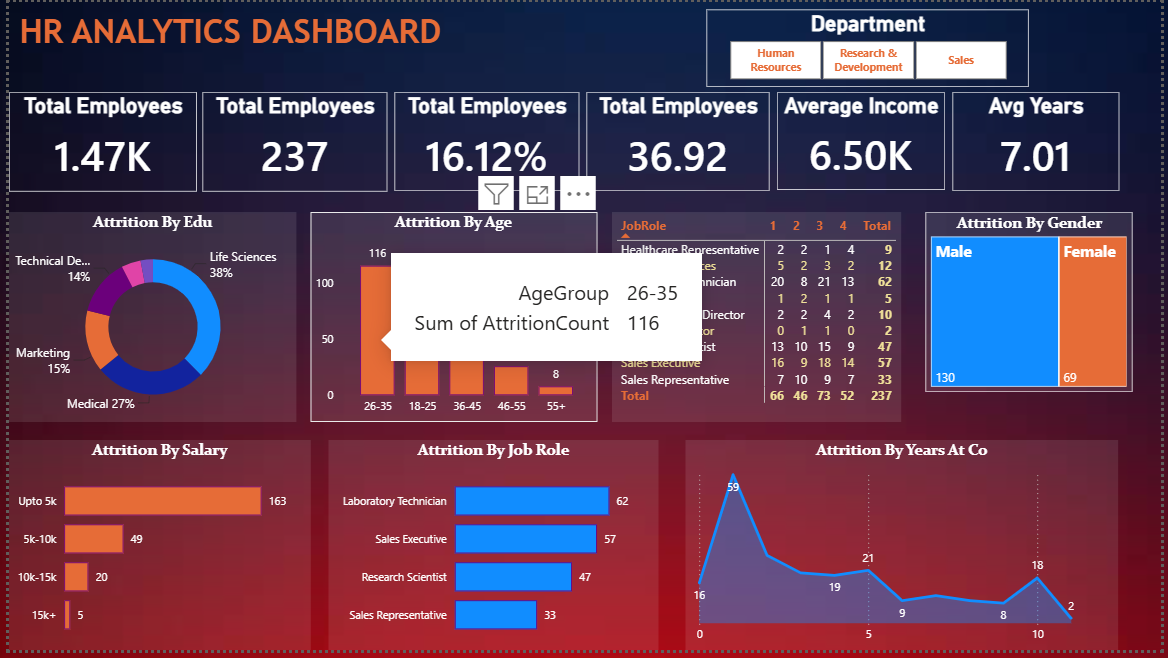

The dashboard page shown, as its layout file describes it:
{"tool":"powerbi","page":{"name":"Page 1","canvas":[1280,720],"ordinal":0},"visuals":[{"type":"cardVisual","title":"Total Employees","fields":{"Data":["CountNonNull(HR analytics.EmpID)"]},"box":[0,100,208.8,110.5],"z":0},{"type":"cardVisual","title":"Total Employees","fields":{"Data":["Sum(HR analytics.AttritionCount)"]},"box":[215.8,100,205.3,110.5],"z":1000},{"type":"cardVisual","title":"Total Employees","fields":{"Data":["HR analytics.Attrition_rate"]},"box":[431.6,100,205.3,110.5],"z":2000},{"type":"cardVisual","title":"Total Employees","fields":{"Data":["Avg(HR analytics.Age)"]},"box":[649.1,100,201.8,110.5],"z":3000},{"type":"cardVisual","title":"Average Income","fields":{"Data":["Avg(HR analytics.MonthlyIncome)"]},"box":[864.9,100,186,108.8],"z":4000},{"type":"cardVisual","title":"Avg Years","fields":{"Data":["Avg(HR analytics.YearsAtCompany)"]},"box":[1063.2,100,186,110.5],"z":5000},{"type":"donutChart","title":"Attrition By Edu","fields":{"Category":["HR analytics.EducationField"],"Y":["Sum(HR analytics.AttritionCount)"]},"box":[0,233.3,319.3,233.3],"z":6000},{"type":"clusteredColumnChart","title":"Attrition By Age","fields":{"Category":["HR analytics.AgeGroup"],"Y":["Sum(HR analytics.AttritionCount)"]},"box":[335.1,233.3,317.5,233.3],"z":7000},{"type":"pivotTable","fields":{"Rows":["HR analytics.JobRole"],"Columns":["HR analytics.JobSatisfaction"],"Values":["Sum(HR analytics.AttritionCount)"]},"box":[670.2,233.3,321.1,233.3],"z":8000},{"type":"clusteredBarChart","title":"Attrition By Salary","fields":{"Category":["HR analytics.SalarySlab"],"Y":["Sum(HR analytics.AttritionCount)"]},"box":[0,486,335.1,233.3],"z":9000},{"type":"clusteredBarChart","title":"Attrition By Job Role","fields":{"Category":["HR analytics.JobRole"],"Y":["Sum(HR analytics.AttritionCount)"]},"box":[354.4,486,366.7,233.3],"z":10000},{"type":"areaChart","title":"Attrition By Years At Co","fields":{"Category":["HR analytics.YearsAtCompany"],"Y":["Sum(HR analytics.AttritionCount)"]},"box":[750.9,486,480.7,233.3],"z":11000},{"type":"treemap","title":"Attrition By Gender","fields":{"Group":["HR analytics.Gender"],"Values":["Sum(HR analytics.AttritionCount)"]},"box":[1017.5,233.3,229.8,200],"z":12000},{"type":"slicer","title":"Department","fields":{"Values":["HR analytics.Department"]},"box":[775.4,8.8,357.9,86],"z":13000},{"type":"textbox","box":[7,5.3,496.5,56.1],"z":14000}]}

Visuals, with their boxes in screenshot pixels (x1, y1, x2, y2), scaled from the page's 1280x720 canvas onto the 1168x658 screenshot:
"Total Employees" cardVisual: {"x1": 0, "y1": 91, "x2": 191, "y2": 192}
"Total Employees" cardVisual: {"x1": 197, "y1": 91, "x2": 384, "y2": 192}
"Total Employees" cardVisual: {"x1": 394, "y1": 91, "x2": 581, "y2": 192}
"Total Employees" cardVisual: {"x1": 592, "y1": 91, "x2": 776, "y2": 192}
"Average Income" cardVisual: {"x1": 789, "y1": 91, "x2": 959, "y2": 191}
"Avg Years" cardVisual: {"x1": 970, "y1": 91, "x2": 1140, "y2": 192}
"Attrition By Edu" donutChart: {"x1": 0, "y1": 213, "x2": 291, "y2": 426}
"Attrition By Age" clusteredColumnChart: {"x1": 306, "y1": 213, "x2": 595, "y2": 426}
pivotTable - HR analytics.JobRole x HR analytics.JobSatisfaction: {"x1": 612, "y1": 213, "x2": 905, "y2": 426}
"Attrition By Salary" clusteredBarChart: {"x1": 0, "y1": 444, "x2": 306, "y2": 657}
"Attrition By Job Role" clusteredBarChart: {"x1": 323, "y1": 444, "x2": 658, "y2": 657}
"Attrition By Years At Co" areaChart: {"x1": 685, "y1": 444, "x2": 1124, "y2": 657}
"Attrition By Gender" treemap: {"x1": 928, "y1": 213, "x2": 1138, "y2": 396}
"Department" slicer: {"x1": 708, "y1": 8, "x2": 1034, "y2": 87}
textbox: {"x1": 6, "y1": 5, "x2": 459, "y2": 56}
